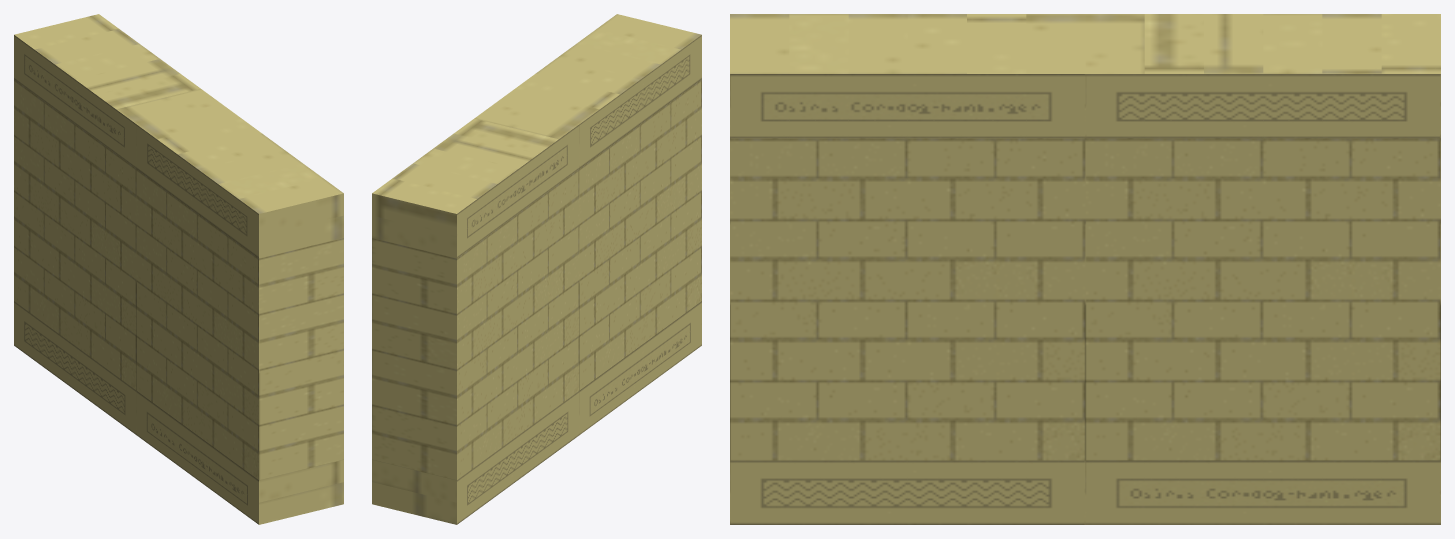
Rendered from Ruins_9.fbx.
3 renders of one model, left to right at view 1: azimuth 30°, elevation 25°; view 2: azimuth 150°, elevation 25°; view 3: azimuth 270°, elevation 25°, orthographic. The views are drawn at different scales.
Visible parts, largest first — view 1: Ruins_9; view 2: Ruins_9; view 3: Ruins_9.
Part boxes in pixels (x1,y1,x2,y2): Ruins_9: (14, 14, 343, 524); Ruins_9: (372, 14, 701, 524); Ruins_9: (730, 14, 1440, 524).
Bounding box in the file's own units: 200 × 700 × 1000.
1 material, 1 textured.
